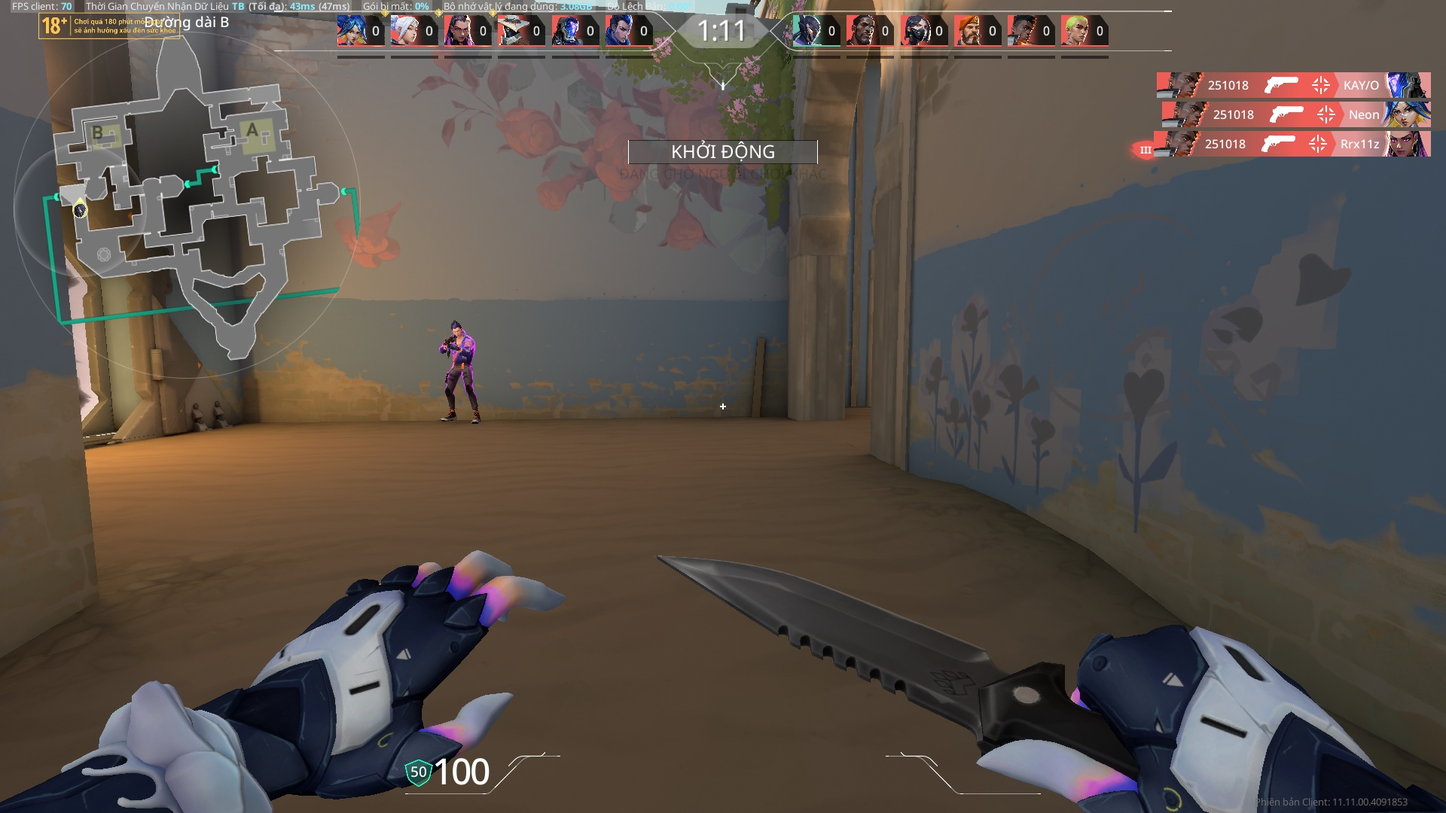body: (449, 330, 474, 364)
head: (450, 319, 460, 333)
